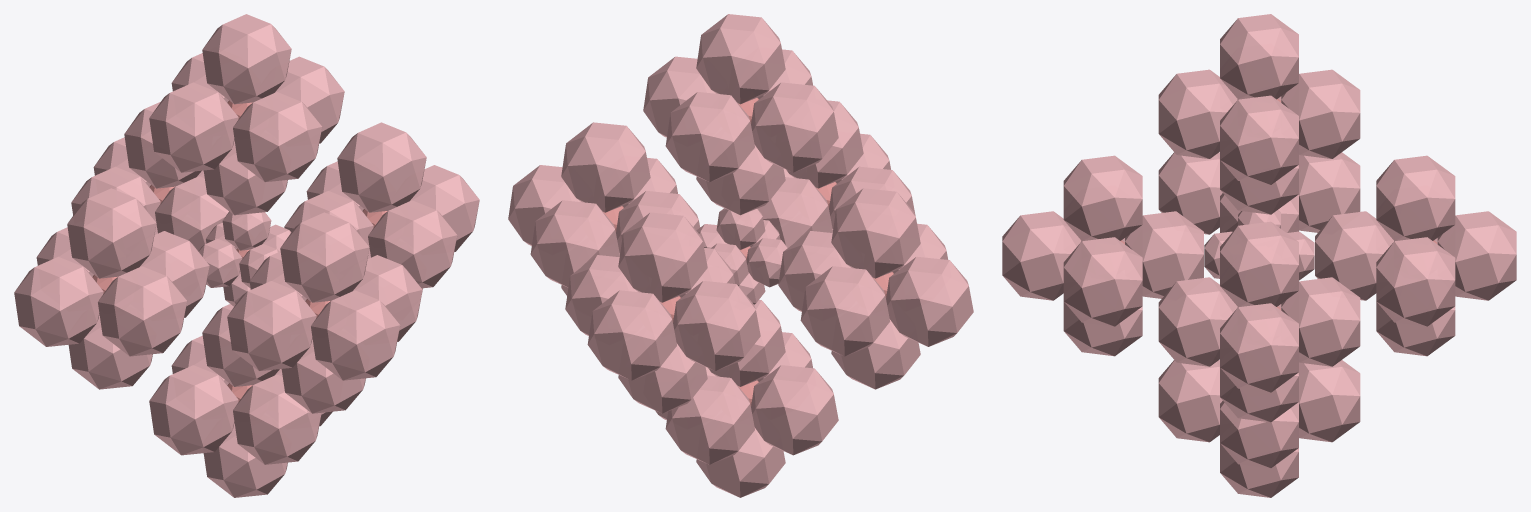
File: fractalsnubcube2.glb
The picture shows the model from 3 angles, left to right: view 1: azimuth 30°, elevation 25°; view 2: azimuth 150°, elevation 25°; view 3: azimuth 270°, elevation 25°; orthographic projection.
Size of the model in its own units: 10.3 by 10.3 by 10.3.
